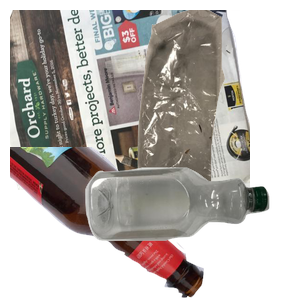glass: (10, 147, 207, 300)
paper: (10, 10, 250, 190)
plastic: (83, 165, 300, 300)
trash: (114, 10, 300, 190)
